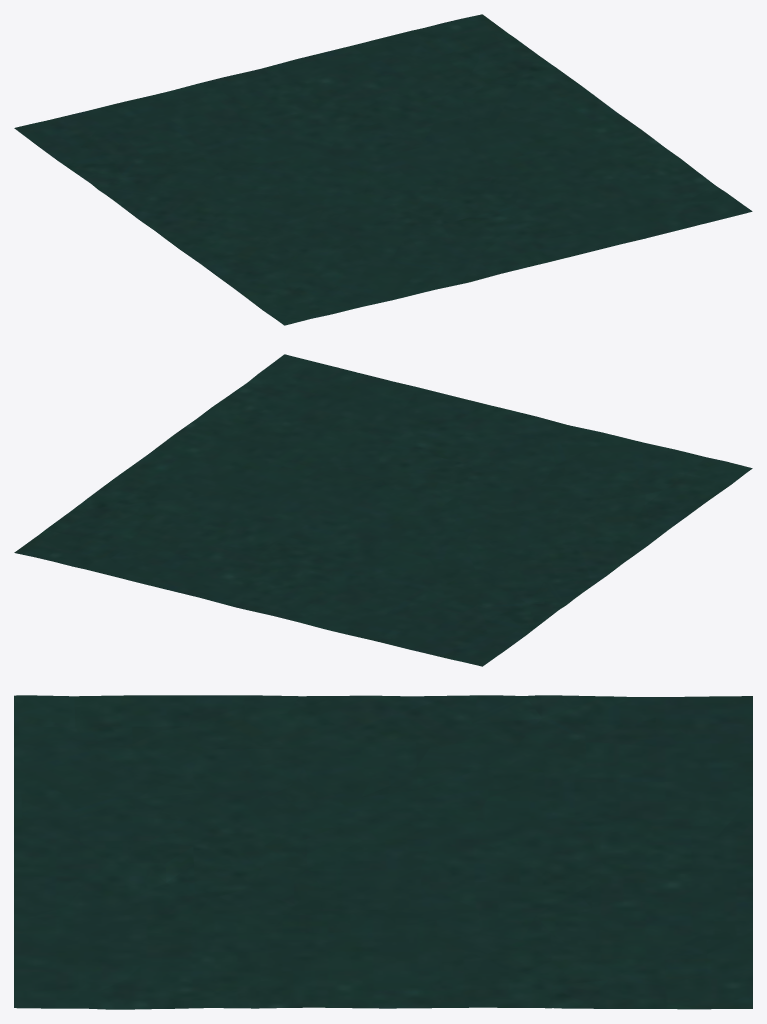
The picture shows the model from 3 angles, top to bottom: view 1: azimuth 30°, elevation 25°; view 2: azimuth 150°, elevation 25°; view 3: azimuth 270°, elevation 25°; orthographic projection. The views are drawn at different scales.
Bounding box in the file's own units: 52.22 × 0.3342 × 52.22.
Materials: 2 (2 with a texture image).
